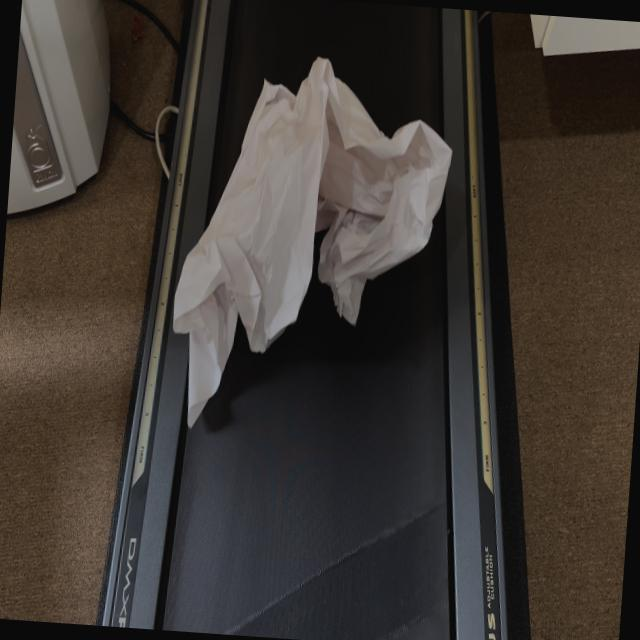Recycle: (160, 40, 460, 450)
